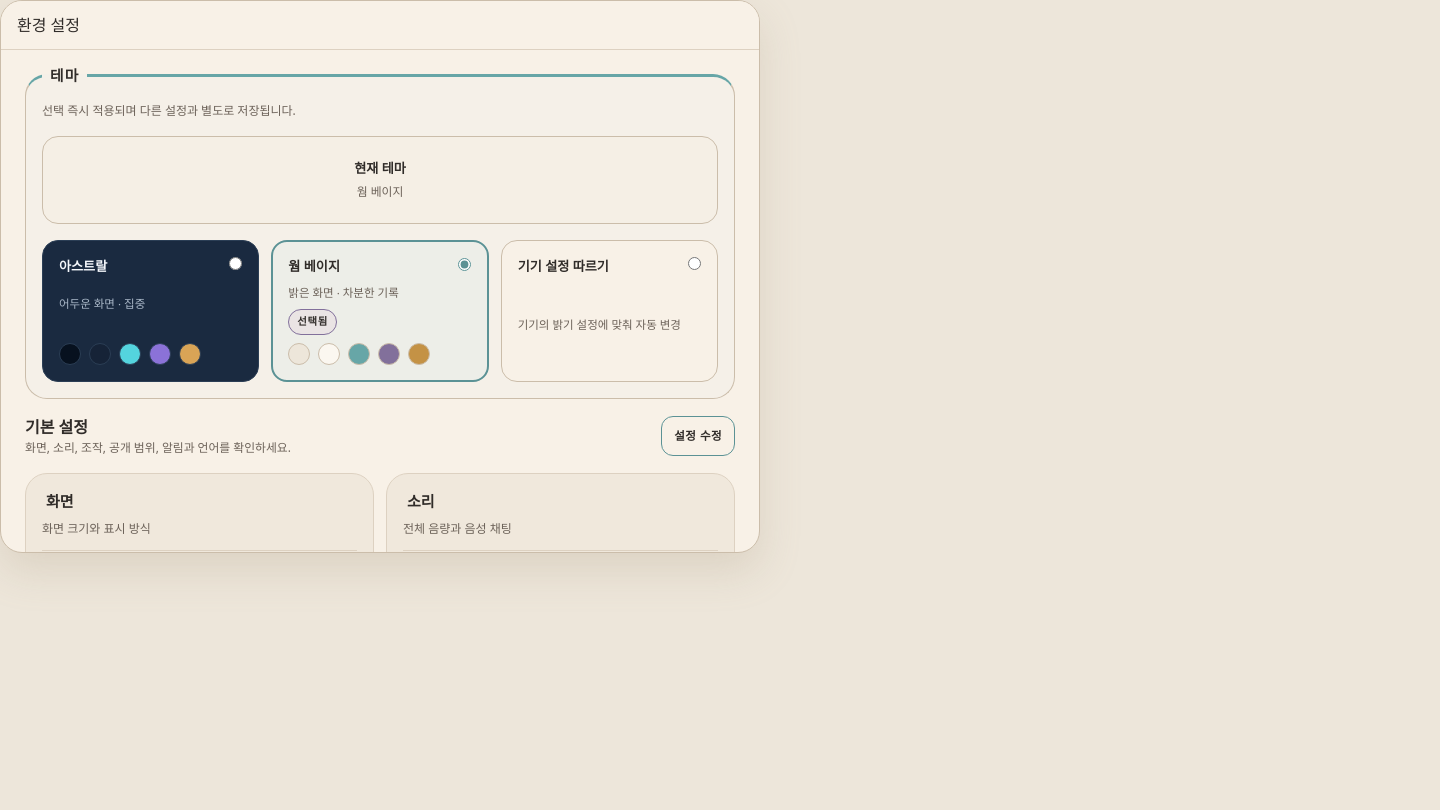
Scenario: System Options surface save timing › applies theme selection immediately and keeps it applied when focused persistence fails
What coordinates should you click on to do the following:
click the radio button labelled "아스트랄 어두운 화면 · 집중"
I would click on:
 (236, 264)
Its box is [229,257,242,270].
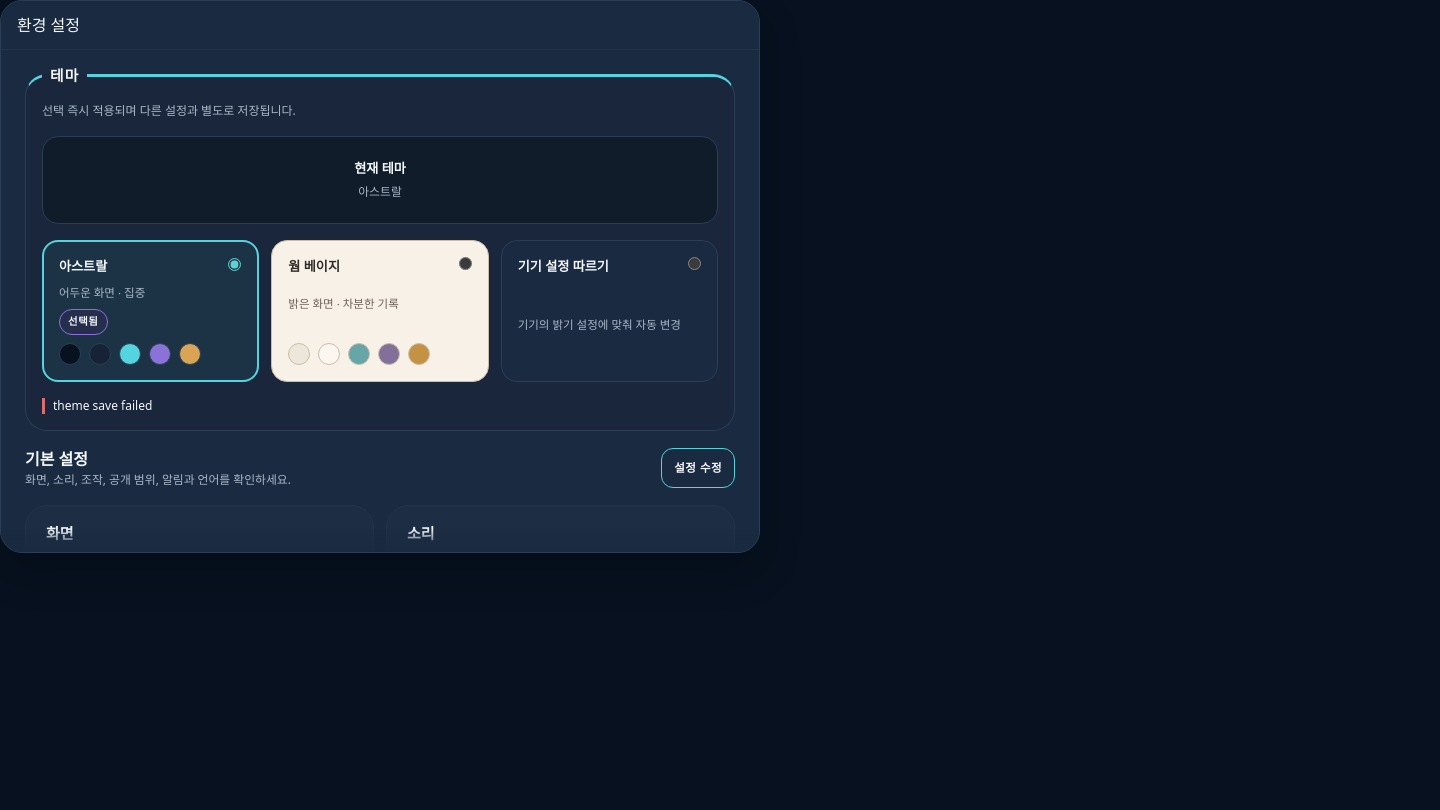
Now the radio button labelled "아스트랄 어두운 화면 · 집중 선택됨" is checked, box [228,258,241,271]
Now the text "theme save failed" is shown, box [42,398,718,414]
